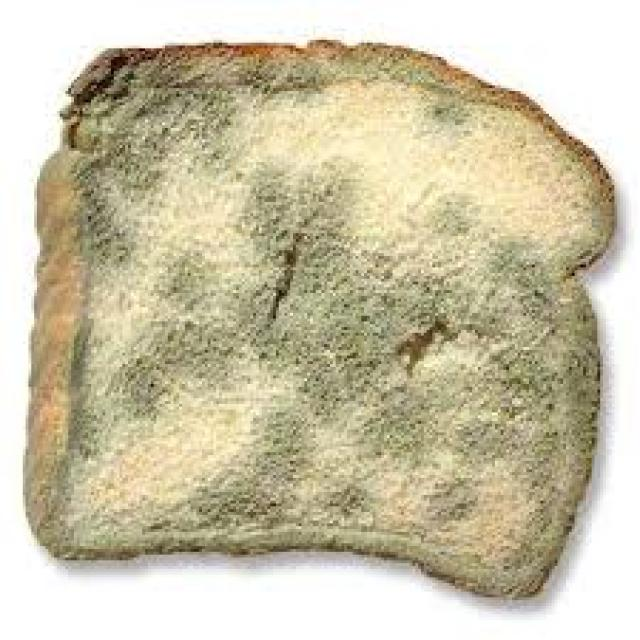food_waste: (28, 40, 612, 592)
